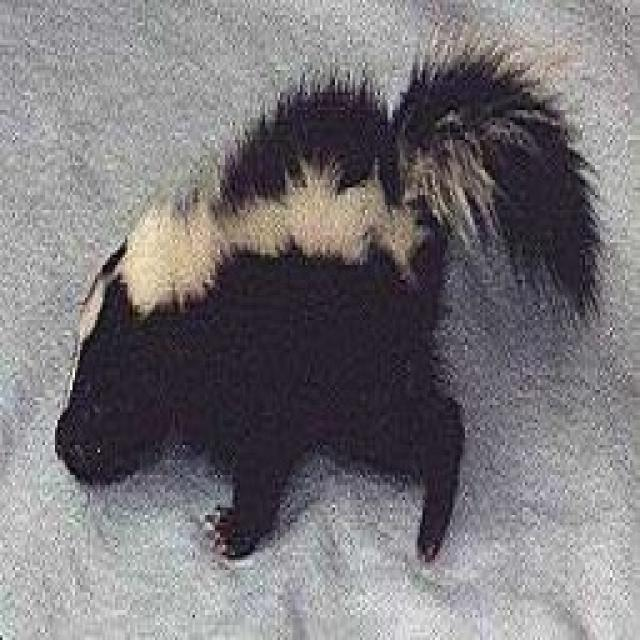not_pig: (51, 27, 611, 565)
